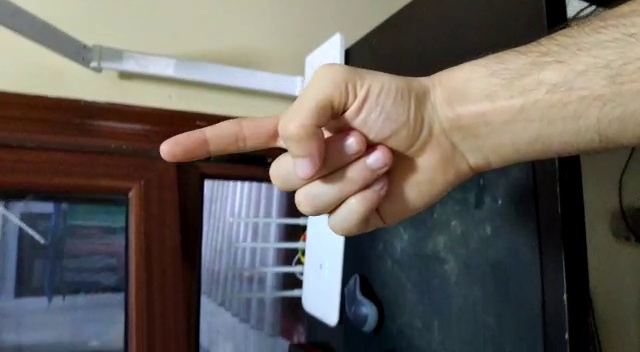One: (160, 63, 427, 237)
